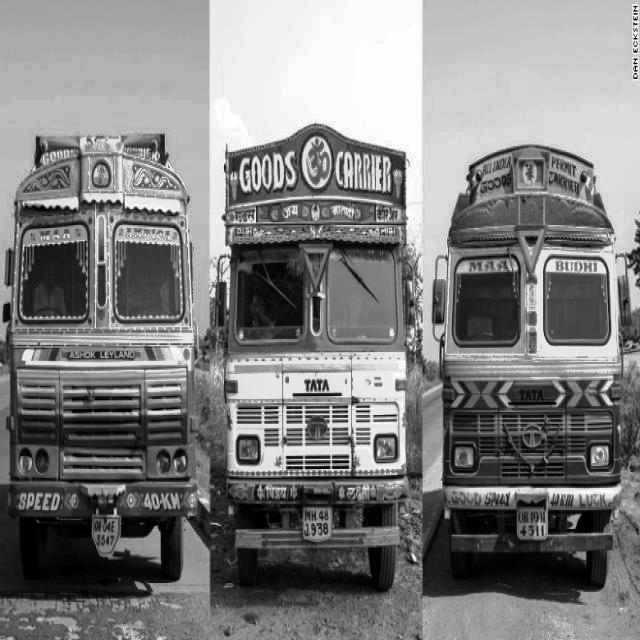HCV: (3, 109, 205, 613), (218, 113, 420, 609)
